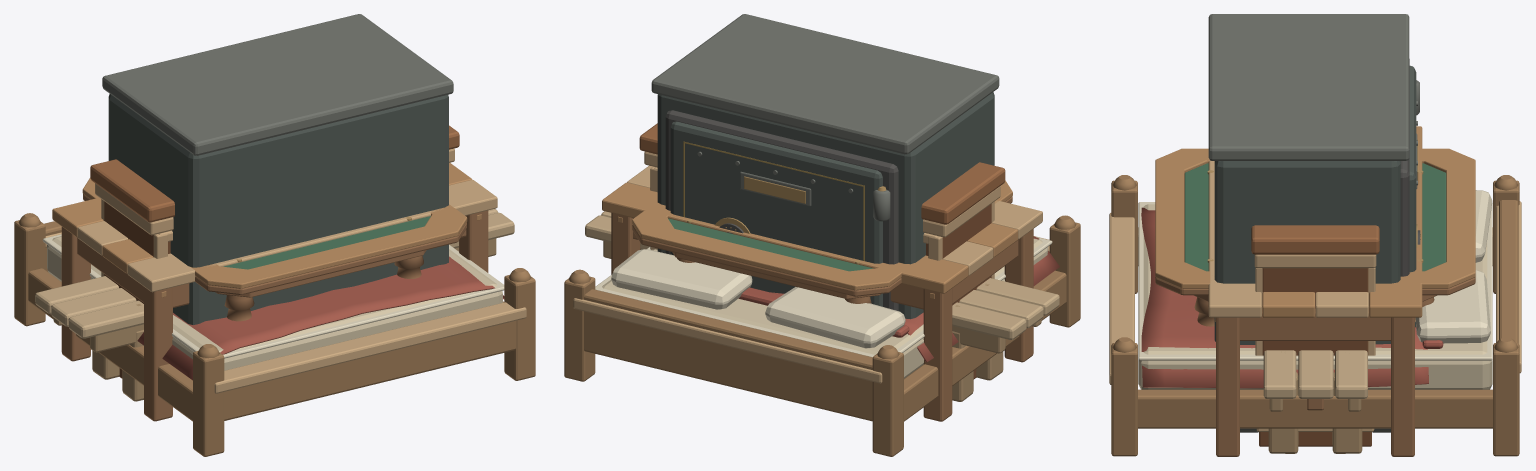
The model's file is frontier-furniture.glb.
3 renders of one model, left to right at view 1: azimuth 30°, elevation 25°; view 2: azimuth 150°, elevation 25°; view 3: azimuth 270°, elevation 25°, orthographic. The views are drawn at different scales.
Visible parts, largest first — view 1: Frontier safe blackened iron, Frontier safe worn iron edges, Frontier dark-stained oak bed, Frontier madder wool, Frontier furniture walnut.001, Frontier furniture scrubbed oak.002, Frontier mattress ticking linen, Frontier furniture polished walnut, Frontier furniture scrubbed oak, Frontier polished oak seat, Frontier furniture walnut, Frontier furniture rubbed walnut (+6 smaller); view 2: Frontier safe blackened iron, Frontier safe worn iron edges, Frontier dark-stained oak bed, Frontier pillow linen, Frontier furniture walnut.001, Frontier furniture polished walnut, Frontier furniture polished walnut.001, Frontier polished oak seat, Frontier furniture blackened iron.001, Frontier furniture scrubbed oak.002, Frontier mattress ticking linen, Frontier furniture rubbed walnut (+9 smaller); view 3: Frontier safe worn iron edges, Frontier dark-stained oak bed, Frontier safe blackened iron, Frontier furniture walnut.001, Frontier furniture polished walnut, Frontier pillow linen, Frontier madder wool, Frontier mattress ticking linen, Frontier polished oak seat, Frontier furniture baize, Frontier furniture oil-darkened walnut, Frontier furniture scrubbed oak.002 (+7 smaller).
Boxes of the visible parts, x1,y1,x2,y2 form: Frontier safe blackened iron: (108,94,448,324); Frontier safe worn iron edges: (102,14,453,155); Frontier dark-stained oak bed: (14,213,535,456); Frontier madder wool: (137,256,504,380); Frontier furniture walnut.001: (61,210,488,421); Frontier furniture scrubbed oak.002: (45,232,526,393); Frontier mattress ticking linen: (47,236,502,370); Frontier furniture polished walnut: (82,178,467,288); Frontier furniture scrubbed oak: (77,180,497,292); Frontier polished oak seat: (35,209,514,338); Frontier furniture walnut: (83,194,466,321); Frontier furniture rubbed walnut: (90,125,459,222); Frontier safe blackened iron: (657,92,994,319); Frontier safe worn iron edges: (651,14,999,233); Frontier dark-stained oak bed: (564,215,1080,456); Frontier pillow linen: (595,237,1052,357); Frontier furniture walnut.001: (611,213,1033,421); Frontier furniture polished walnut: (632,180,1012,290); Frontier furniture polished walnut.001: (602,182,1017,298); Frontier polished oak seat: (585,211,1059,339); Frontier furniture blackened iron.001: (665,110,898,310); Frontier furniture scrubbed oak.002: (573,236,1049,383); Frontier mattress ticking linen: (602,238,1048,378); Frontier furniture rubbed walnut: (639,123,1005,224); Frontier safe worn iron edges: (1208,14,1419,432); Frontier dark-stained oak bed: (1111,175,1519,456); Frontier safe blackened iron: (1214,65,1416,344); Frontier furniture walnut.001: (1216,309,1414,456); Frontier furniture polished walnut: (1155,148,1475,288); Frontier pillow linen: (1138,190,1492,360); Frontier madder wool: (1141,207,1443,388); Frontier mattress ticking linen: (1138,204,1492,389); Frontier polished oak seat: (1263,350,1367,398); Frontier furniture baize: (1184,163,1446,271); Frontier furniture oil-darkened walnut: (1259,268,1371,446); Frontier furniture scrubbed oak.002: (1109,201,1521,384).
Size of the model in its own units: 2.5 by 1.5 by 1.93.
